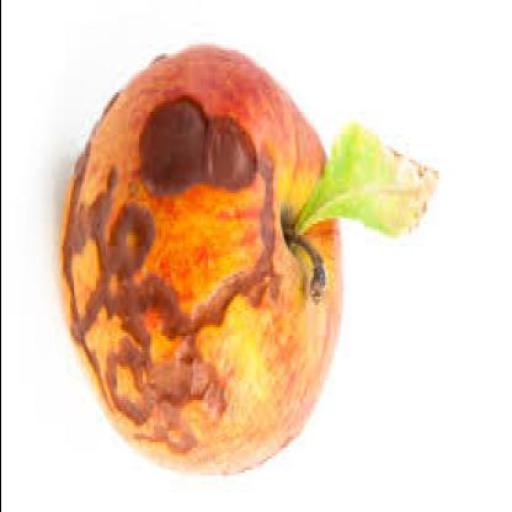biodegradable: (60, 40, 340, 470), (294, 123, 442, 241)
